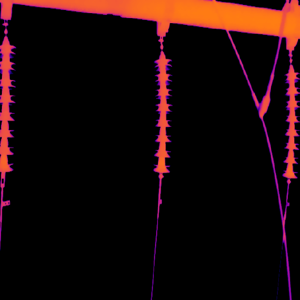insulator: (152, 46, 170, 177), (0, 33, 15, 176), (283, 61, 300, 181)
